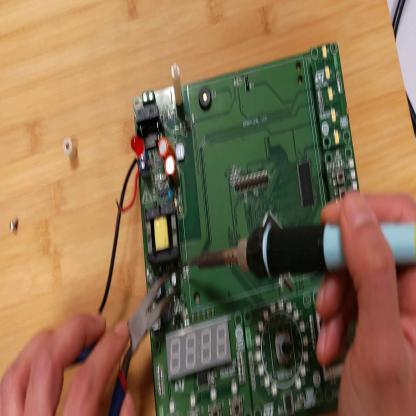hand: (317, 189, 416, 416), (3, 311, 140, 416)
low voltage board: (98, 45, 362, 416)
pliers: (71, 279, 177, 416)
welder probe tip: (175, 216, 415, 270)
working area: (2, 2, 416, 415)
